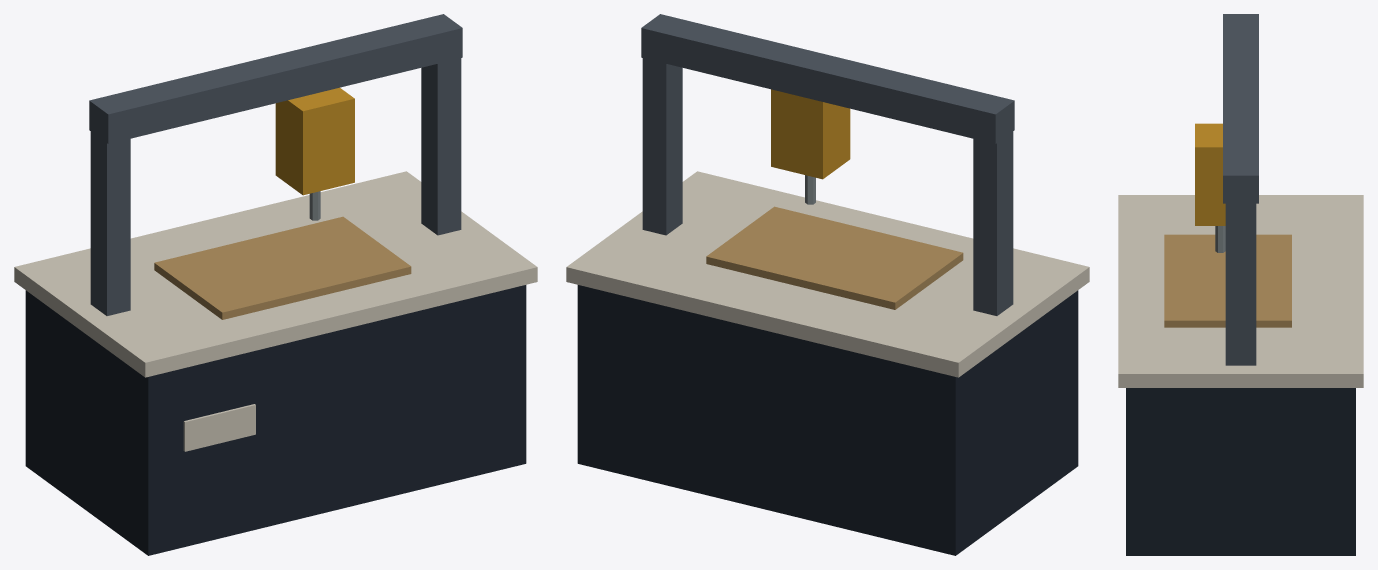
File: cnc.glb
The picture shows the model from 3 angles, left to right: view 1: azimuth 30°, elevation 25°; view 2: azimuth 150°, elevation 25°; view 3: azimuth 270°, elevation 25°; orthographic projection. The views are drawn at different scales.
Visible parts, largest first — view 1: cnc_malha; view 2: cnc_malha; view 3: cnc_malha.
Boxes of the visible parts, left/top/right/bottom form: cnc_malha: left=14, top=14, right=537, bottom=555; cnc_malha: left=566, top=14, right=1089, bottom=555; cnc_malha: left=1118, top=14, right=1363, bottom=555.
Bounding box in the file's own units: 1.66 × 1.62 × 0.96.
